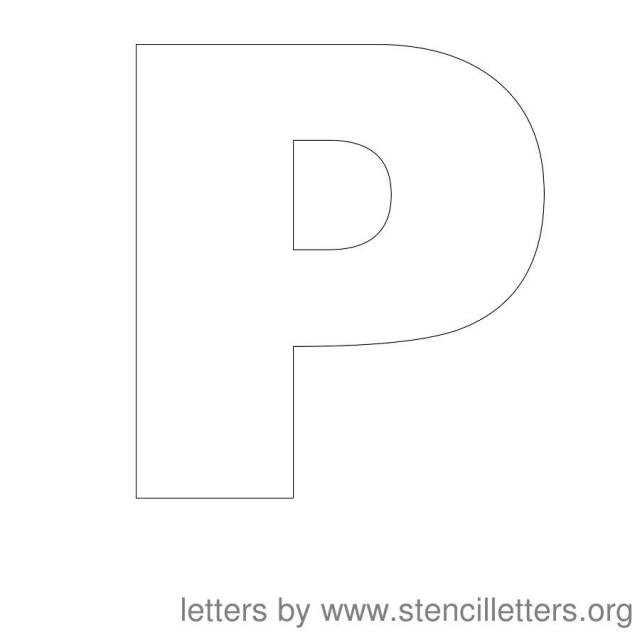P: (82, 16, 564, 554)
